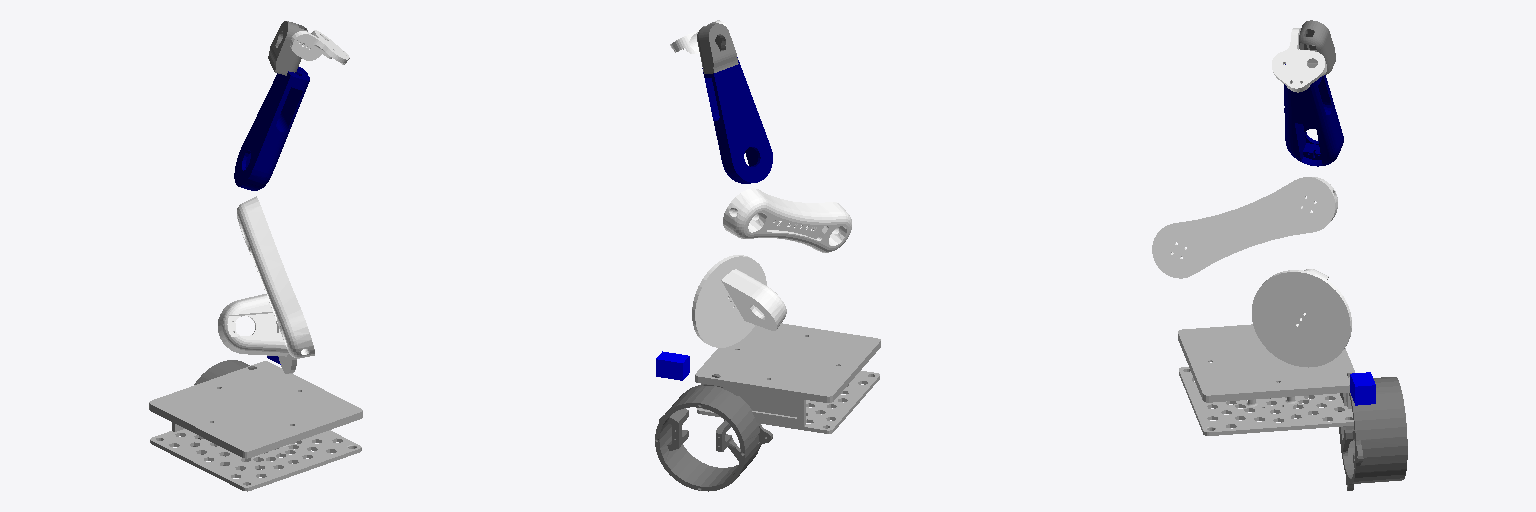
URDF robot description (rob_description):
<?xml version="1.0" ?>
<!-- =================================================================================== -->
<!-- |    This document was autogenerated by xacro from rob.xacro                      | -->
<!-- |    EDITING THIS FILE BY HAND IS NOT RECOMMENDED                                 | -->
<!-- =================================================================================== -->
<!-- This URDF was automatically created by SolidWorks to URDF Exporter! Originally created by [author] ([email redacted]) 
     Commit Version: 1.6.0-4-g7f85cfe  Build Version: 1.6.7995.38578
     For more information, please see http://wiki.ros.org/sw_urdf_exporter -->
<robot name="rob_description">
  <gazebo reference="camera_link">
    <sensor name="camera1" type="camera">
      <update_rate>30.0</update_rate>
      <camera name="esp32cam">
        <horizontal_fov>1.22173</horizontal_fov>
        <image>
          <width>1600</width>
          <height>1200</height>
          <format>R8G8B8</format>
        </image>
        <clip>
          <near>0.02</near>
          <far>100</far>
        </clip>
        <noise>
          <type>gaussian</type>
          <mean>0.0</mean>
          <stddev>0.01</stddev>
        </noise>
      </camera>
      <plugin filename="libgazebo_ros_camera.so" name="camera_controller">
        <alwaysOn>true</alwaysOn>
        <updateRate>30.0</updateRate>
        <cameraName>esp32cam/camera1</cameraName>
        <imageTopicName>/camera/image_raw</imageTopicName>
        <cameraInfoTopicName>/camera/camera_info</cameraInfoTopicName>
        <frameName>camera_link</frameName>
        <hackBaseline>0.07</hackBaseline>
        <distortionK1>0.0</distortionK1>
        <distortionK2>0.0</distortionK2>
        <distortionK3>0.0</distortionK3>
        <distortionT1>0.0</distortionT1>
        <distortionT2>0.0</distortionT2>
      </plugin>
    </sensor>
  </gazebo>
  <!-- Differential drive plugin is commented out -->
  <gazebo>
    <plugin filename="libgazebo_ros_diff_drive.so" name="differential_drive_controller">
      <!-- Plugin update rate in Hz -->
      <updateRate>100</updateRate>
      <!-- Name of left joint, defaults to `left_joint` -->
      <leftJoint>wheel1_joint</leftJoint>
      <!-- Name of right joint, defaults to `right_joint` -->
      <rightJoint>wheel2_joint</rightJoint>
      <!-- The distance from the center of one wheel to the other, in meters, defaults to 0.34 m -->
      <wheelSeparation>0.26</wheelSeparation>
      <!-- Diameter of the wheels, in meters, defaults to 0.15 m -->
      <wheelDiameter>0.065</wheelDiameter>
      <!-- Wheel acceleration, in rad/s^2, defaults to 0.0 rad/s^2 -->
      <wheelAcceleration>2.0</wheelAcceleration>
      <!-- Maximum torque which the wheels can produce, in Nm, defaults to 5 Nm -->
      <wheelTorque>5</wheelTorque>
      <!-- Topic to receive geometry_msgs/Twist message commands, defaults to `cmd_vel` -->
      <commandTopic>/cmd_vel</commandTopic>
      <!-- Topic to publish nav_msgs/Odometry messages, defaults to `odom` -->
      <odometryTopic>/odom</odometryTopic>
      <!-- Odometry frame, defaults to `odom` -->
      <odometryFrame>odom</odometryFrame>
      <!-- Robot frame to calculate odometry from, defaults to `base_footprint` -->
      <robotBaseFrame>world</robotBaseFrame>
      <!-- Odometry source, 0 for ENCODER, 1 for WORLD, defaults to WORLD -->
      <odometrySource>0</odometrySource>
      <!-- Set to true to publish transforms for the wheel links, defaults to false -->
      <publishWheelTF>false</publishWheelTF>
      <!-- Set to true to publish transforms for the odometry, defaults to true -->
      <publishOdom>true</publishOdom>
      <!-- Set to true to publish sensor_msgs/JointState on /joint_states for the wheel joints, defaults to false -->
      <publishWheelJointState>true</publishWheelJointState>
      <!-- Set to true to swap right and left wheels, defaults to true -->
      <legacyMode>false</legacyMode>
      <publishOdomTF>true</publishOdomTF>
      <publishTf>1</publishTf>
      <rosDebugLevel>na</rosDebugLevel>
    </plugin>
  </gazebo>
  <gazebo>
    <plugin filename="libgazebo_ros_control.so" name="control">
      <robotNamespace>/</robotNamespace>
    </plugin>
  </gazebo>
  <gazebo reference="wheel1_link">
    <selfCollide>true</selfCollide>
  </gazebo>
  <gazebo reference="wheel2_link">
    <selfCollide>true</selfCollide>
  </gazebo>
  <gazebo reference="robot_arm_base_link">
    <selfCollide>true</selfCollide>
  </gazebo>
  <gazebo reference="waist_link">
    <selfCollide>true</selfCollide>
  </gazebo>
  <gazebo reference="shoulder_link">
    <selfCollide>true</selfCollide>
  </gazebo>
  <gazebo reference="elbow_link">
    <selfCollide>true</selfCollide>
  </gazebo>
  <gazebo reference="wrist_link">
    <selfCollide>true</selfCollide>
  </gazebo>
  <gazebo reference="wrist_pitch_link">
    <selfCollide>true</selfCollide>
  </gazebo>
  <link name="world">
  </link>
  <joint name="base_joint" type="fixed">
    <parent link="world"/>
    <child link="base_link"/>
    <origin rpy="0 0 0.17" xyz="0 0 0"/>
  </joint>
  <link name="base_link">
    <inertial>
      <origin rpy="0 0 0" xyz="0.0429301108999509 -0.0510754466449302 0.0293852995706934"/>
      <mass value="0.45432485870868"/>
      <inertia ixx="0.0029066579318034" ixy="1.52586102405724E-06" ixz="1.62445178667574E-05" iyy="0.00127300003261156" iyz="2.55065572355847E-08" izz="0.00375436802461814"/>
    </inertial>
    <visual>
      <origin rpy="0 0 0" xyz="0 0 0"/>
      <geometry>
        <mesh filename="package://rob_description/meshes/base_link.STL"/>
      </geometry>
      <material name="">
        <color rgba="0.752941176470588 0.752941176470588 0.752941176470588 1"/>
      </material>
    </visual>
    <collision>
      <origin rpy="0 0 0" xyz="0 0 0"/>
      <geometry>
        <mesh filename="package://rob_description/meshes/base_link.STL"/>
      </geometry>
    </collision>
  </link>
  <link name="wheel1_link">
    <inertial>
      <origin rpy="0 0 0" xyz="0.000138449426315122 -0.00699863165738515 0.0181270123819037"/>
      <mass value="0.166945648008905"/>
      <inertia ixx="6.72964134165798E-05" ixy="5.95216536750434E-12" ixz="3.19966084058516E-12" iyy="6.72926792752873E-05" iyz="2.2405037899089E-13" izz="0.000113206411587724"/>
    </inertial>
    <visual>
      <origin rpy="0 0 0" xyz="0 0 0"/>
      <geometry>
        <mesh filename="package://rob_description/meshes/wheel1_link.STL"/>
      </geometry>
      <material name="">
        <color rgba="0.792156862745098 0.819607843137255 0.933333333333333 1"/>
      </material>
    </visual>
    <collision>
      <origin rpy="0 0 0" xyz="0 0 0"/>
      <geometry>
        <mesh filename="package://rob_description/meshes/wheel1_link.STL"/>
      </geometry>
    </collision>
  </link>
  <joint name="wheel1_joint" type="continuous">
    <origin rpy="-1.5707963267949 0.177359227009232 0" xyz="0.011232792252951 0.0550133054637493 0.01926270910094"/>
    <parent link="base_link"/>
    <child link="wheel1_link"/>
    <axis xyz="0 0 1"/>
  </joint>
  <link name="wheel2_link">
    <inertial>
      <origin rpy="0 0 0" xyz="0.000138449427382649 -0.0069986316601361 0.018127012381964"/>
      <mass value="0.166945648038239"/>
      <inertia ixx="6.72964134176824E-05" ixy="5.94446824189331E-12" ixz="3.16585447322871E-12" iyy="6.72926792843813E-05" iyz="2.3733916667747E-13" izz="0.000113206411597874"/>
    </inertial>
    <visual>
      <origin rpy="0 0 0" xyz="0 0 0"/>
      <geometry>
        <mesh filename="package://rob_description/meshes/wheel2_link.STL"/>
      </geometry>
      <material name="">
        <color rgba="0.792156862745098 0.819607843137255 0.933333333333333 1"/>
      </material>
    </visual>
    <collision>
      <origin rpy="0 0 0" xyz="0 0 0"/>
      <geometry>
        <mesh filename="package://rob_description/meshes/wheel2_link.STL"/>
      </geometry>
    </collision>
  </link>
  <joint name="wheel2_joint" type="continuous">
    <origin rpy="1.5707963267949 0.691543612587939 0" xyz="0.0112327921426415 -0.154845357288986 0.02076270910094"/>
    <parent link="base_link"/>
    <child link="wheel2_link"/>
    <axis xyz="0 0 -1"/>
  </joint>
  <link name="robot_arm_base_link">
    <inertial>
      <origin rpy="0 0 0" xyz="0.000890229377213621 0.0223982076492734 -1.51953095939295E-10"/>
      <mass value="0.0938941939628843"/>
      <inertia ixx="0.00011393791922916" ixy="-1.35515920698357E-06" ixz="-1.97717583289253E-13" iyy="0.000197548704096291" iyz="-1.90758289806404E-13" izz="0.000124247629168402"/>
    </inertial>
    <visual>
      <origin rpy="0 0 0" xyz="0 0 0"/>
      <geometry>
        <mesh filename="package://rob_description/meshes/robot_arm_base_link.STL"/>
      </geometry>
      <material name="">
        <color rgba="0.501960784313725 0.501960784313725 0.501960784313725 1"/>
      </material>
    </visual>
    <collision>
      <origin rpy="0 0 0" xyz="0 0 0"/>
      <geometry>
        <mesh filename="package://rob_description/meshes/robot_arm_base_link.STL"/>
      </geometry>
    </collision>
  </link>
  <joint name="robot_arm_base_joint" type="fixed">
    <origin rpy="1.5707963267949 0 -3.14159265358979" xyz="0.0542327893849049 -0.0507628932149278 0.0582627122631441"/>
    <parent link="base_link"/>
    <child link="robot_arm_base_link"/>
    <axis xyz="0 0 0"/>
  </joint>
  <link name="waist_link">
    <inertial>
      <origin rpy="0 0 0" xyz="-0.00705756789604821 0.0194229347811724 1.038142207338E-07"/>
      <mass value="0.0897213187915641"/>
      <inertia ixx="7.72728720700333E-05" ixy="7.96790903927782E-06" ixz="2.77140490095276E-10" iyy="7.06954475494065E-05" iyz="-6.66096656459277E-11" izz="6.69370927399034E-05"/>
    </inertial>
    <visual>
      <origin rpy="0 0 0" xyz="0 0 0"/>
      <geometry>
        <mesh filename="package://rob_description/meshes/waist_link.STL"/>
      </geometry>
      <material name="">
        <color rgba="1 1 1 1"/>
      </material>
    </visual>
    <collision>
      <origin rpy="0 0 0" xyz="0 0 0"/>
      <geometry>
        <mesh filename="package://rob_description/meshes/waist_link.STL"/>
      </geometry>
    </collision>
  </link>
  <joint name="waist_joint" type="revolute">
    <origin rpy="0 1.08100913503451 0" xyz="0 0.05 0"/>
    <parent link="robot_arm_base_link"/>
    <child link="waist_link"/>
    <axis xyz="0 1 0"/>
    <limit effort="50" lower="-1.5707963267949" upper="1.5707963267949" velocity="0.5"/>
  </joint>
  <link name="shoulder_link">
    <inertial>
      <origin rpy="0 0 0" xyz="2.20043870011177E-06 0.0103077592658962 -1.09059368272324E-06"/>
      <mass value="0.137970572349197"/>
      <inertia ixx="3.08345354645482E-05" ixy="-2.13068535969506E-09" ixz="-6.47325294636156E-10" iyy="0.000431654970376359" iyz="1.06137375873849E-09" izz="0.000412898353495999"/>
    </inertial>
    <visual>
      <origin rpy="0 0 0" xyz="0 0 0"/>
      <geometry>
        <mesh filename="package://rob_description/meshes/shoulder_link.STL"/>
      </geometry>
      <material name="">
        <color rgba="1 1 1 1"/>
      </material>
    </visual>
    <collision>
      <origin rpy="0 0 0" xyz="0 0 0"/>
      <geometry>
        <mesh filename="package://rob_description/meshes/shoulder_link.STL"/>
      </geometry>
    </collision>
  </link>
  <joint name="shoulder_joint" type="revolute">
    <origin rpy="-3.14159265358955 -0.259001141232201 1.57079632679483" xyz="0 0.111215239821368 0.017928059569213"/>
    <parent link="waist_link"/>
    <child link="shoulder_link"/>
    <axis xyz="0 1 0"/>
    <limit effort="75" lower="-2.0943951023932" upper="2.0943951023932" velocity="0.8"/>
  </joint>
  <link name="elbow_link">
    <inertial>
      <origin rpy="0 0 0" xyz="-0.0316987440184093 0.0105785583288961 -0.000100527970298914"/>
      <mass value="0.0803343703233642"/>
      <inertia ixx="2.12570030269286E-05" ixy="8.16587499796508E-07" ixz="-2.54261433454123E-07" iyy="0.000117225501185926" iyz="1.05325896499179E-08" izz="0.000104519029575083"/>
    </inertial>
    <visual>
      <origin rpy="0 0 0" xyz="0 0 0"/>
      <geometry>
        <mesh filename="package://rob_description/meshes/elbow_link.STL"/>
      </geometry>
      <material name="">
        <color rgba="0 0 0.501960784313725 1"/>
      </material>
    </visual>
    <collision>
      <origin rpy="0 0 0" xyz="0 0 0"/>
      <geometry>
        <mesh filename="package://rob_description/meshes/elbow_link.STL"/>
      </geometry>
    </collision>
  </link>
  <joint name="elbow_joint" type="revolute">
    <origin rpy="0 0.666778469149742 -3.14159265358968" xyz="0.0700000000000071 -0.00250000000002339 0"/>
    <parent link="shoulder_link"/>
    <child link="elbow_link"/>
    <axis xyz="0 1 0"/>
    <limit effort="80" lower="-3" upper="1.53" velocity="1.0"/>
  </joint>
  <link name="wrist_link">
    <inertial>
      <origin rpy="0 0 0" xyz="3.46276801557743E-05 -0.00411008004478342 0.0184466953896076"/>
      <mass value="0.0204564905574409"/>
      <inertia ixx="5.09450576471333E-06" ixy="-3.90195217616513E-09" ixz="1.06590555803014E-08" iyy="6.0754095092678E-06" iyz="3.8979988594088E-07" izz="2.96028488948377E-06"/>
    </inertial>
    <visual>
      <origin rpy="0 0 0" xyz="0 0 0"/>
      <geometry>
        <mesh filename="package://rob_description/meshes/wrist_link.STL"/>
      </geometry>
      <material name="">
        <color rgba="0.556862745098039 0.556862745098039 0.556862745098039 1"/>
      </material>
    </visual>
    <collision>
      <origin rpy="0 0 0" xyz="0 0 0"/>
      <geometry>
        <mesh filename="package://rob_description/meshes/wrist_link.STL"/>
      </geometry>
    </collision>
  </link>
  <joint name="wrist_joint" type="revolute">
    <origin rpy="-1.57079632679684 -1.38849503153902 1.57079632679672" xyz="-0.105699999999926 0.0109254046180036 8.45116508766813E-05"/>
    <parent link="elbow_link"/>
    <child link="wrist_link"/>
    <axis xyz="0 0 1"/>
    <limit effort="60" lower="-1.5707963267949" upper="1.5707963267949" velocity="1.2"/>
  </joint>
  <link name="wrist_pitch_link">
    <inertial>
      <origin rpy="0 0 0" xyz="0.024485098459644 0.0047925620128958 -0.0016042523851675"/>
      <mass value="0.0155758863589592"/>
      <inertia ixx="2.584126351928E-06" ixy="-8.30847952796364E-07" ixz="5.46132239991505E-07" iyy="6.24782073073235E-06" iyz="1.00345546004568E-08" izz="4.87873061642217E-06"/>
    </inertial>
    <visual>
      <origin rpy="0 0 0" xyz="0 0 0"/>
      <geometry>
        <mesh filename="package://rob_description/meshes/wrist_pitch_link.STL"/>
      </geometry>
      <material name="">
        <color rgba="1 1 1 1"/>
      </material>
    </visual>
    <collision>
      <origin rpy="0 0 0" xyz="0 0 0"/>
      <geometry>
        <mesh filename="package://rob_description/meshes/wrist_pitch_link.STL"/>
      </geometry>
    </collision>
  </link>
  <joint name="wrist_pitch_joint" type="revolute">
    <origin rpy="1.5707963267949 -0.262431797603188 0" xyz="0 -0.0168500000000001 0.0284"/>
    <parent link="wrist_link"/>
    <child link="wrist_pitch_link"/>
    <axis xyz="0 0 1"/>
    <limit effort="50" lower="-1.5707963267949" upper="1.5707963267949" velocity="1.0"/>
  </joint>
  <link name="camera_link">
    <inertial>
      <origin rpy="0 0 0" xyz="0 0 0"/>
      <mass value="0.1"/>
      <inertia ixx="0.0001" ixy="0" ixz="0" iyy="0.0001" iyz="0" izz="0.0001"/>
    </inertial>
    <visual>
      <origin rpy="0 0 0" xyz="0 0 0"/>
      <geometry>
        <box size="0.03 0.02 0.02"/>
      </geometry>
      <material name="blue">
        <color rgba="0 0 1 1"/>
      </material>
    </visual>
    <collision>
      <origin rpy="0 0 0" xyz="0 0 0"/>
      <geometry>
        <box size="0.03 0.02 0.02"/>
      </geometry>
    </collision>
  </link>
  <joint name="camera_joint" type="fixed">
    <origin rpy="0 0 0" xyz="0.1 0 0.05"/>
    <parent link="base_link"/>
    <child link="camera_link"/>
  </joint>
  <!-- <transmission name="robot_arm_base_link">
    <type>transmission_interface/SimpleTransmission</type>
    <joint name="robot_arm_base_joint">
      <hardwareInterface>hardware_interface/PositionJointInterface</hardwareInterface>
    </joint>
    <actuator name="robot_arm_base_link">
      <hardwareInterface>hardware_interface/PositionJointInterface</hardwareInterface>
      <mechanicalReduction>1</mechanicalReduction>
    </actuator>
  </transmission> -->
  <transmission name="waist_link">
    <type>transmission_interface/SimpleTransmission</type>
    <joint name="waist_joint">
      <hardwareInterface>hardware_interface/PositionJointInterface</hardwareInterface>
    </joint>
    <actuator name="waist_link">
      <hardwareInterface>hardware_interface/PositionJointInterface</hardwareInterface>
      <mechanicalReduction>1</mechanicalReduction>
    </actuator>
  </transmission>
  <transmission name="shoulder_link">
    <type>transmission_interface/SimpleTransmission</type>
    <joint name="shoulder_joint">
      <hardwareInterface>hardware_interface/PositionJointInterface</hardwareInterface>
    </joint>
    <actuator name="shoulder_link">
      <hardwareInterface>hardware_interface/PositionJointInterface</hardwareInterface>
      <mechanicalReduction>1</mechanicalReduction>
    </actuator>
  </transmission>
  <transmission name="elbow_link">
    <type>transmission_interface/SimpleTransmission</type>
    <joint name="elbow_joint">
      <hardwareInterface>hardware_interface/PositionJointInterface</hardwareInterface>
    </joint>
    <actuator name="elbow_link">
      <hardwareInterface>hardware_interface/PositionJointInterface</hardwareInterface>
      <mechanicalReduction>1</mechanicalReduction>
    </actuator>
  </transmission>
  <transmission name="wrist_link">
    <type>transmission_interface/SimpleTransmission</type>
    <joint name="wrist_joint">
      <hardwareInterface>hardware_interface/PositionJointInterface</hardwareInterface>
    </joint>
    <actuator name="wrist_link">
      <hardwareInterface>hardware_interface/PositionJointInterface</hardwareInterface>
      <mechanicalReduction>1</mechanicalReduction>
    </actuator>
  </transmission>
  <transmission name="wrist_pitch_link">
    <type>transmission_interface/SimpleTransmission</type>
    <joint name="wrist_pitch_joint">
      <hardwareInterface>hardware_interface/PositionJointInterface</hardwareInterface>
    </joint>
    <actuator name="wrist_pitch_link">
      <hardwareInterface>hardware_interface/PositionJointInterface</hardwareInterface>
      <mechanicalReduction>1</mechanicalReduction>
    </actuator>
  </transmission>
</robot>

--- Facts derived from the render (not from the file) ---
3 views of the same robot in one strip: view 1: azimuth 30°, elevation 25°; view 2: azimuth 150°, elevation 25°; view 3: azimuth 270°, elevation 25° (orthographic).
Robot: rob_description — 11 links, 10 joints (5 revolute, 2 continuous, 3 fixed); root link world; default pose: all joints at 0.
Visible links, largest first — view 1: base_link, elbow_link, shoulder_link, waist_link, wrist_pitch_link, wrist_link, robot_arm_base_link; view 2: base_link, robot_arm_base_link, waist_link, shoulder_link, elbow_link, wrist_link, camera_link; view 3: base_link, shoulder_link, waist_link, robot_arm_base_link, elbow_link, wrist_pitch_link, wrist_link, camera_link.
Boxes of the visible links, left/top/right/bottom form: base_link: left=149, top=361, right=362, bottom=491; elbow_link: left=234, top=67, right=309, bottom=190; shoulder_link: left=237, top=196, right=314, bottom=358; waist_link: left=218, top=294, right=296, bottom=373; wrist_pitch_link: left=290, top=30, right=349, bottom=64; wrist_link: left=268, top=21, right=307, bottom=75; robot_arm_base_link: left=193, top=360, right=270, bottom=470; base_link: left=695, top=323, right=880, bottom=433; robot_arm_base_link: left=655, top=374, right=772, bottom=491; waist_link: left=692, top=255, right=786, bottom=347; shoulder_link: left=723, top=188, right=851, bottom=252; elbow_link: left=702, top=57, right=772, bottom=183; wrist_link: left=697, top=24, right=738, bottom=73; camera_link: left=656, top=351, right=689, bottom=380; base_link: left=1178, top=324, right=1354, bottom=435; shoulder_link: left=1152, top=177, right=1337, bottom=278; waist_link: left=1252, top=269, right=1351, bottom=367; robot_arm_base_link: left=1338, top=373, right=1407, bottom=490; elbow_link: left=1284, top=64, right=1343, bottom=166; wrist_pitch_link: left=1272, top=28, right=1326, bottom=92; wrist_link: left=1299, top=20, right=1335, bottom=74; camera_link: left=1350, top=372, right=1375, bottom=405.
Bounding box of the posed robot: 0.2078 × 0.2445 × 0.5057 m (x, y, z).
7 mesh visuals loaded from 9 distinct referenced files (7 binary STL); not drawn: 2 (reference not matched to a file when rendering).
